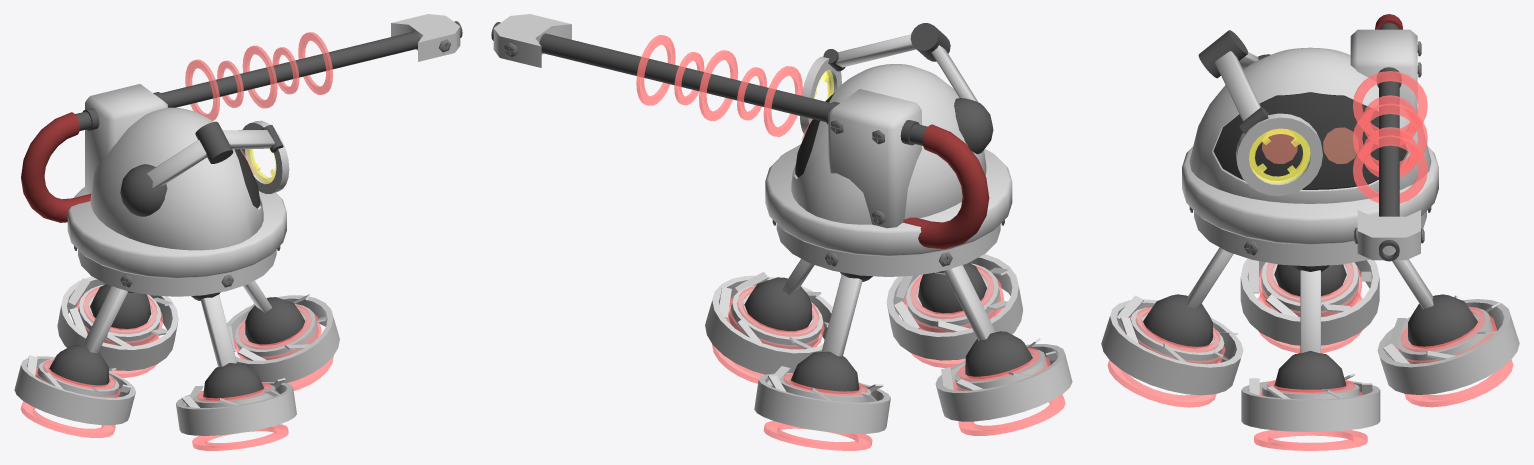
Rendered from Sniper_bot.fbx.
3 views of the same model, side by side, from view 1: azimuth 30°, elevation 25°; view 2: azimuth 150°, elevation 25°; view 3: azimuth 270°, elevation 25° (orthographic). The views are drawn at different scales.
Visible parts, largest first — view 1: Head_2, Cylinder_6, Cylinder_3_2, Tube_6, Tube_5, Cube, Tube_3_2, Tube_4_3, Torus, Tube_4_2, Sphere_1_2, Cube_2 (+25 smaller); view 2: Head_2, Cube, Cylinder_6, Cylinder_3_2, Tube_6, Tube_3_2, Torus, Tube_5, Tube_4_2, Tube_4_3, Sphere_1_2, Cube_2 (+25 smaller); view 3: Head_2, visor, Cylinder_6, Tube_5, Tube_3_2, Tube_4_3, Tube_6, Cube, Cylinder_3_2, Tube_4_2, Tube_2_2, Sphere_1 (+29 smaller).
Boxes of the visible parts, <box> form: Head_2: <box>90,107,263,250</box>; Cylinder_6: <box>67,187,286,278</box>; Cylinder_3_2: <box>75,21,462,130</box>; Tube_6: <box>14,356,135,425</box>; Tube_5: <box>176,382,296,435</box>; Cube: <box>85,84,167,193</box>; Tube_3_2: <box>57,276,178,370</box>; Tube_4_3: <box>227,295,339,383</box>; Torus: <box>21,112,91,222</box>; Tube_4_2: <box>78,250,276,296</box>; Sphere_1_2: <box>245,297,305,345</box>; Cube_2: <box>391,14,460,61</box>; Head_2: <box>791,64,986,224</box>; Cube: <box>828,89,921,228</box>; Cylinder_6: <box>765,144,1012,256</box>; Cylinder_3_2: <box>491,22,927,145</box>; Tube_6: <box>935,344,1072,421</box>; Tube_3_2: <box>754,373,890,433</box>; Torus: <box>903,124,989,248</box>; Tube_5: <box>886,254,1022,360</box>; Tube_4_2: <box>776,224,1000,276</box>; Tube_4_3: <box>705,275,832,374</box>; Sphere_1_2: <box>744,277,812,331</box>; Cube_2: <box>493,14,571,67</box>; Head_2: <box>1189,47,1431,203</box>; visor: <box>1213,92,1407,189</box>; Cylinder_6: <box>1182,138,1438,244</box>; Tube_5: <box>1101,299,1243,395</box>; Tube_3_2: <box>1377,299,1519,394</box>; Tube_4_3: <box>1241,381,1380,431</box>; Tube_6: <box>1240,258,1379,345</box>; Cube: <box>1350,29,1417,167</box>; Cylinder_3_2: <box>1377,23,1401,261</box>; Tube_4_2: <box>1194,211,1426,266</box>; Tube_2_2: <box>1235,113,1322,195</box>; Sphere_1: <box>1408,294,1477,348</box>.
Bounding box in the file's own units: 455 × 286 × 300.
